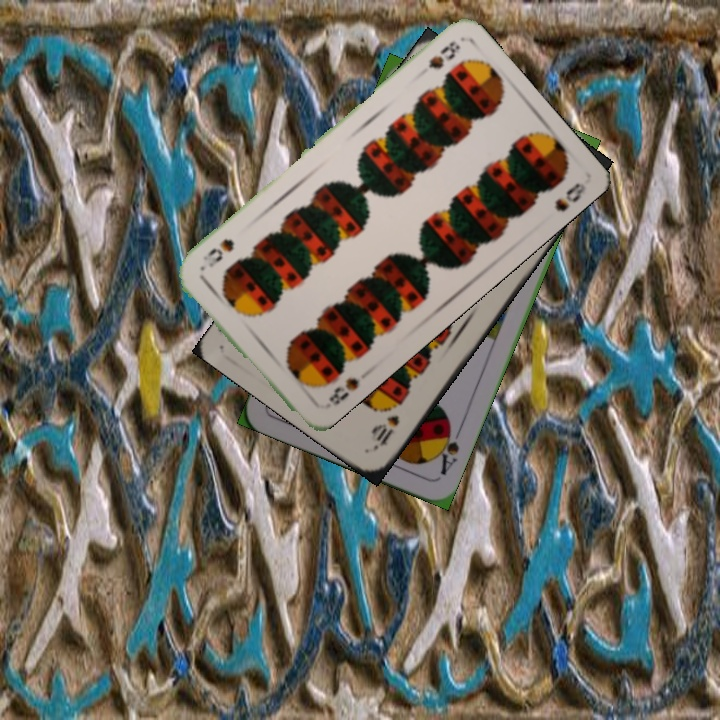S10: (369, 411, 403, 453)
S8: (424, 36, 463, 72), (325, 373, 362, 408)
SA: (431, 419, 465, 478)
